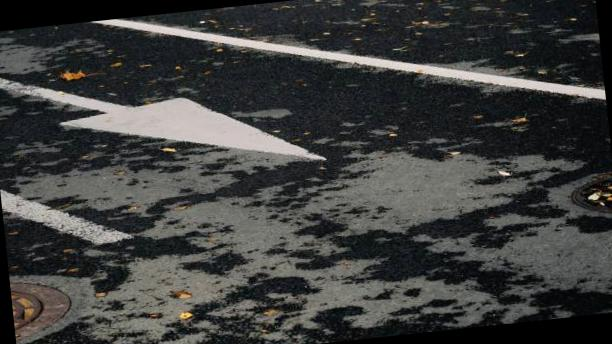faded_road_lines: (0, 172, 141, 258)
